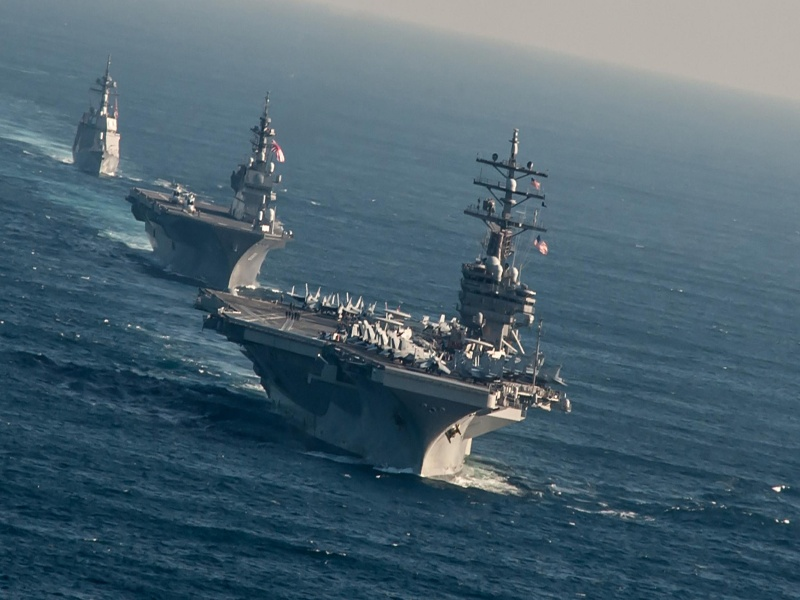carrier: (233, 263, 574, 481), (146, 129, 289, 288)
cruise: (71, 62, 131, 187)
